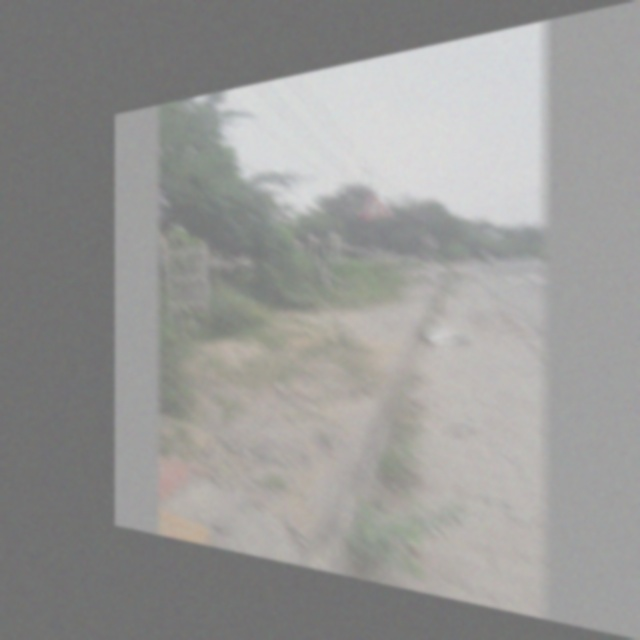Pedestrian_Crossing: (359, 183, 394, 222)
